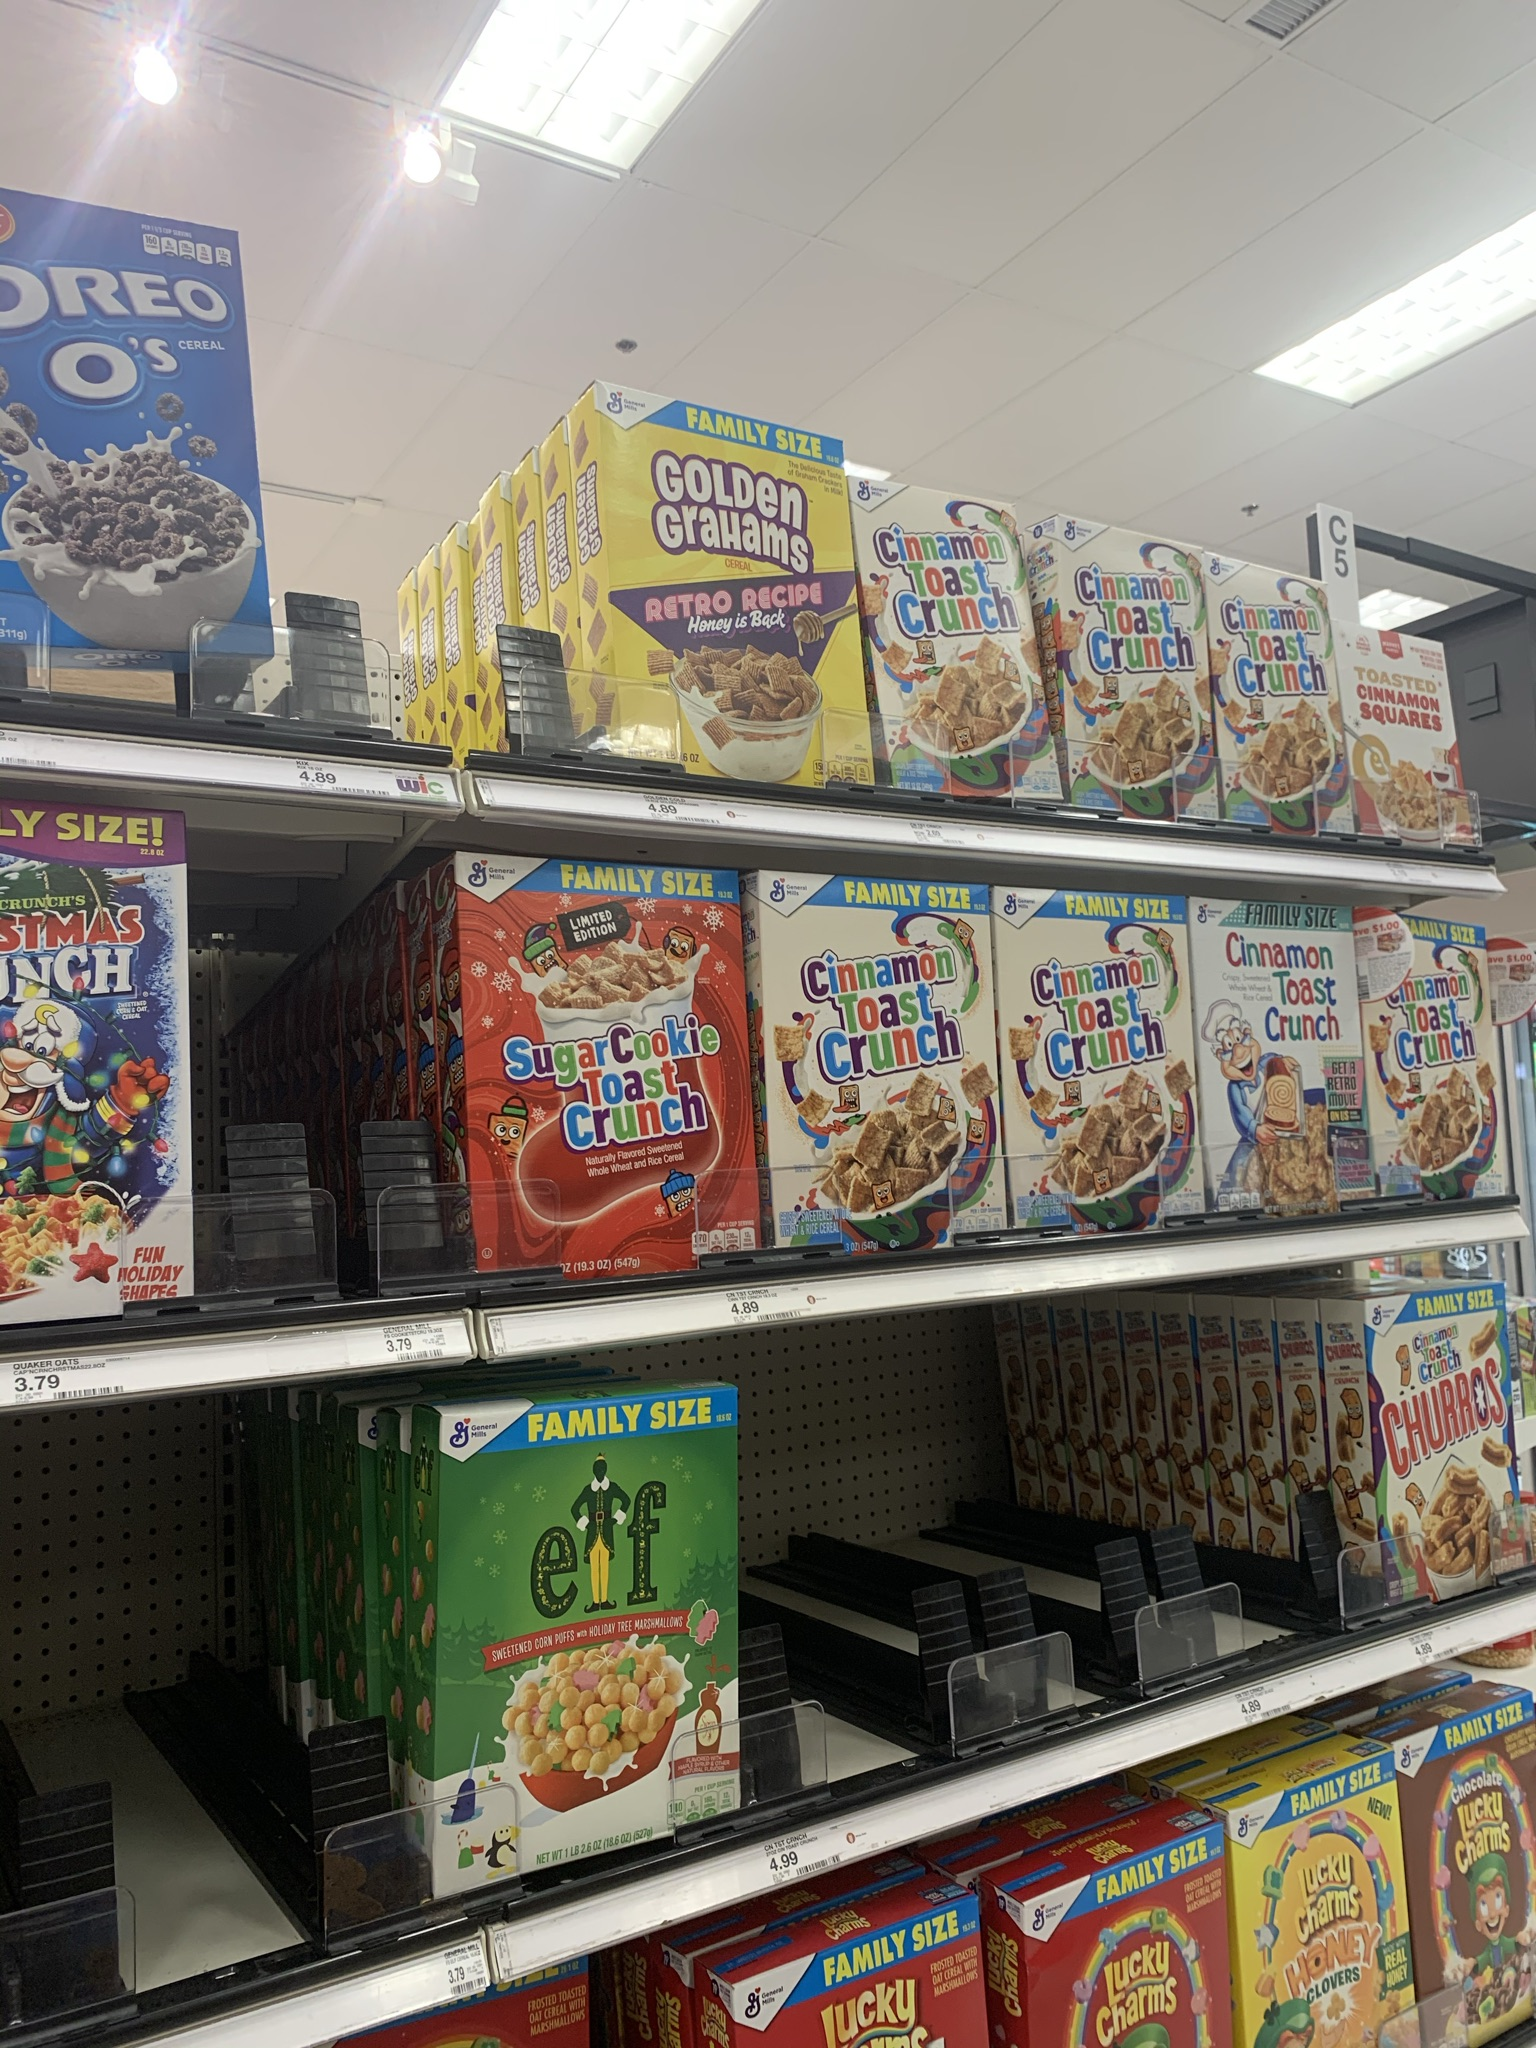Cereal churros: (1368, 1329, 1526, 1596)
Cereal cinnamin toast crunch: (852, 485, 1063, 793)
Cereal cinnamon toast crunch: (461, 866, 770, 1276), (787, 879, 997, 1247), (1020, 910, 1192, 1243), (1204, 916, 1367, 1235), (1075, 535, 1217, 810), (1221, 574, 1357, 829), (1383, 929, 1509, 1193), (1362, 635, 1471, 839)
Cereal elf: (439, 1438, 744, 1846)
Cereal golden: (649, 443, 842, 755)
Cereal oreo: (3, 197, 287, 698)
